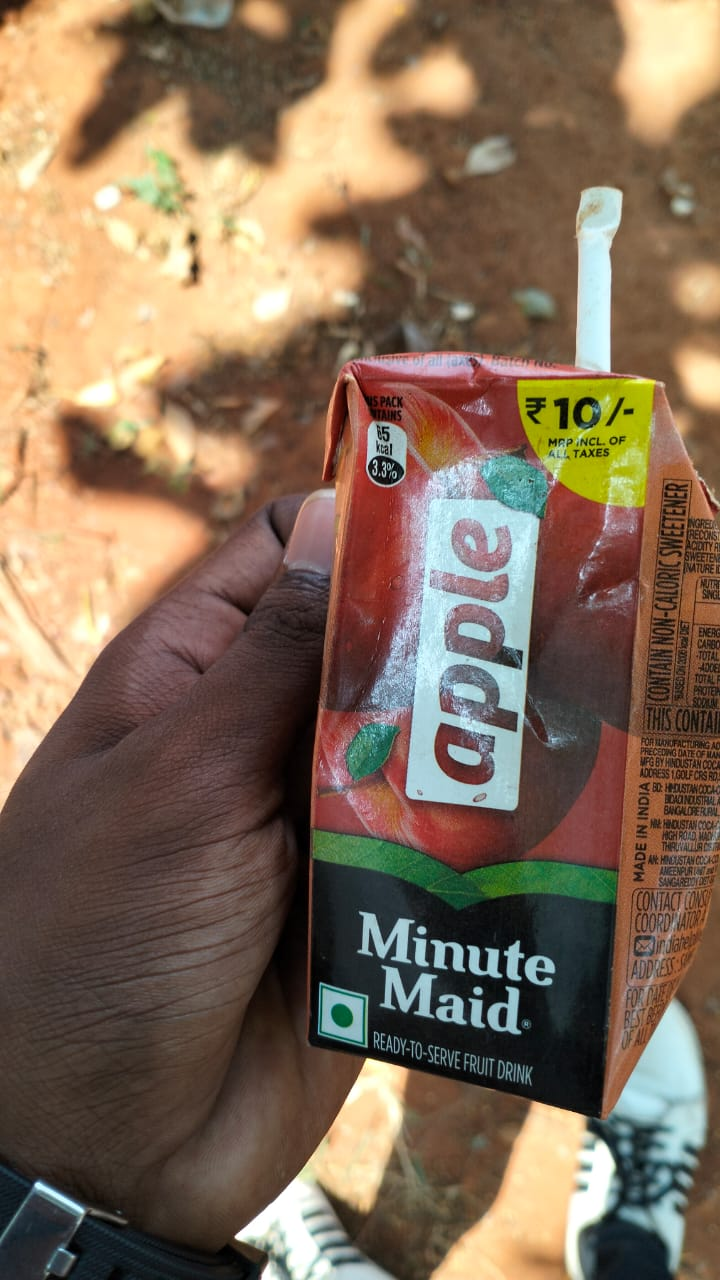pbag: (329, 310, 720, 1084)
